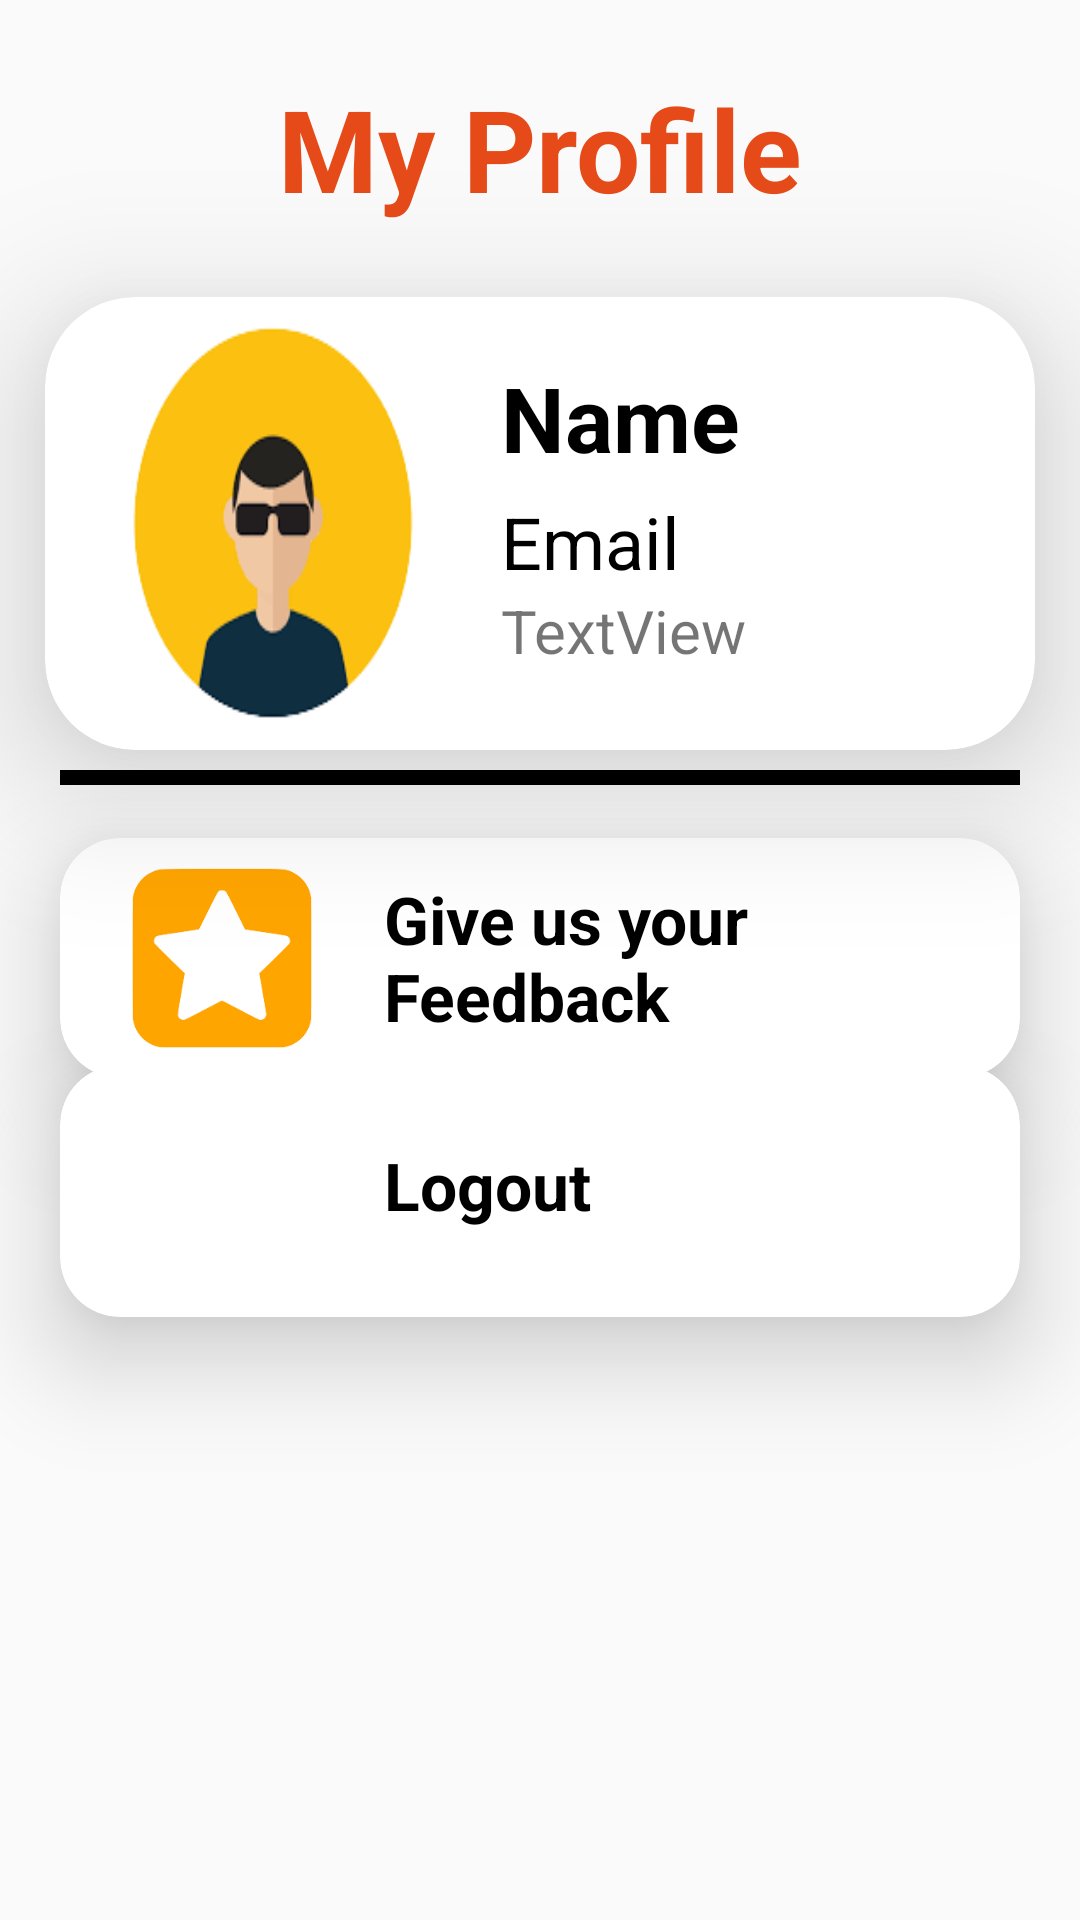

Named icons in this screenshot (1080px×1920px) and their bounding boxes, (x1, y1, x2, y2):
rate: (132, 868, 312, 1048)
